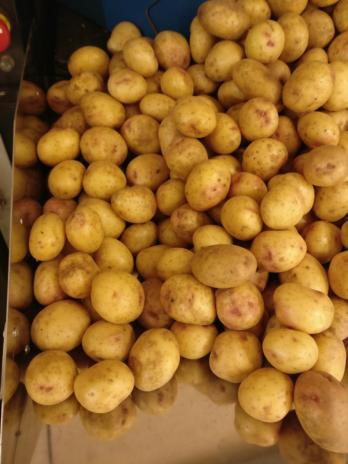Floury potato: (192, 0, 348, 464), (13, 15, 189, 416)
